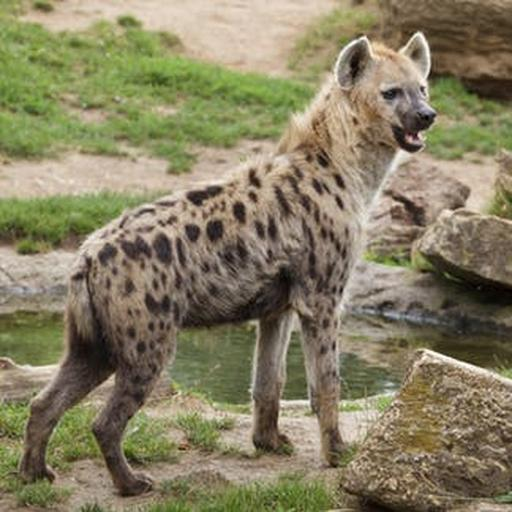Hyena: (15, 30, 435, 503)
